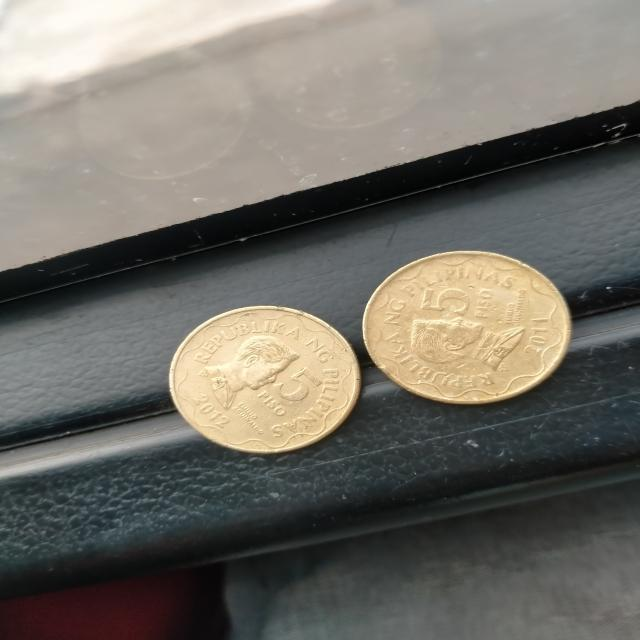5_Old_Front: (247, 358, 319, 418), (424, 275, 496, 325)
